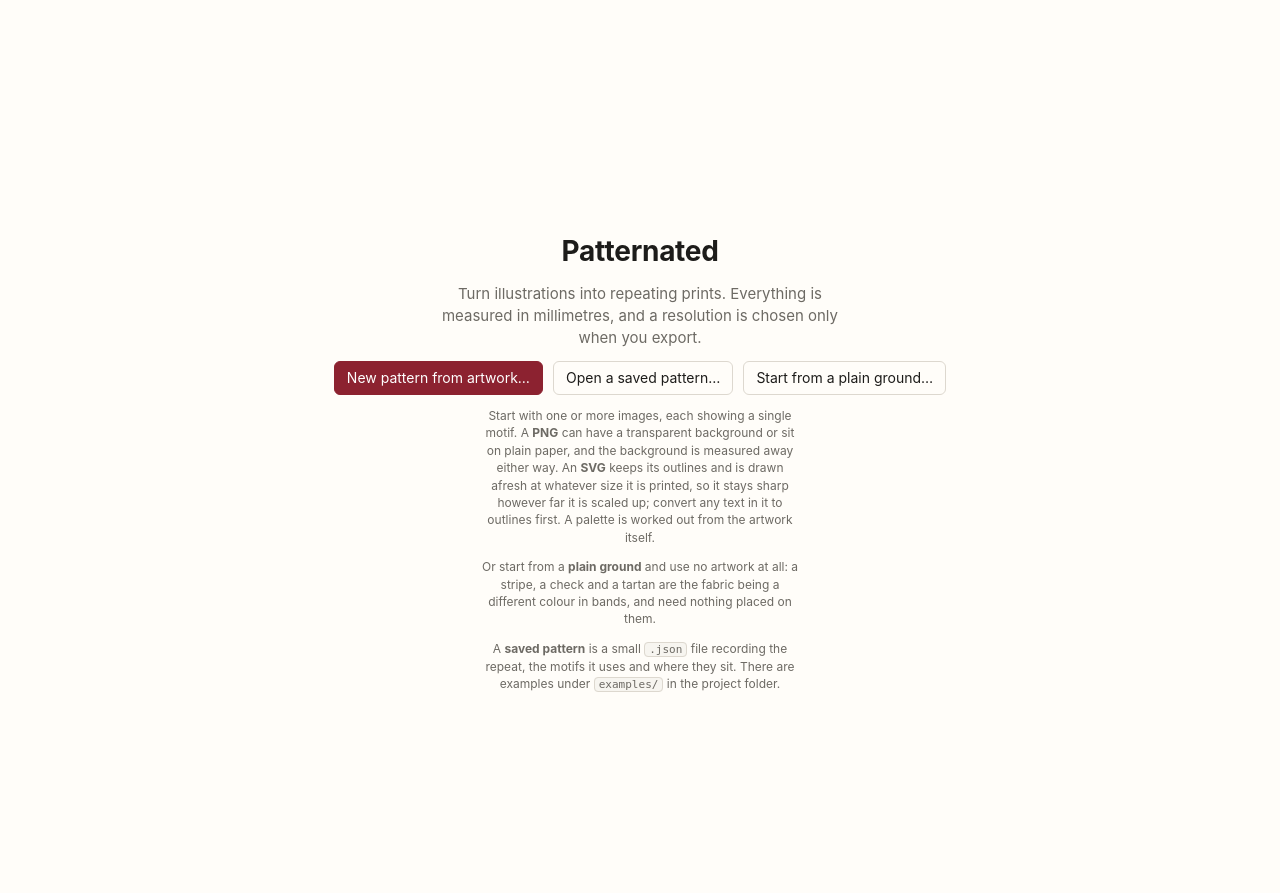
Scenario: the palette size control › names the colourways a resize discarded
Step 1. Click the button "Open a saved pattern…" → (643, 378), box [553, 361, 733, 395]
(page scrolled)
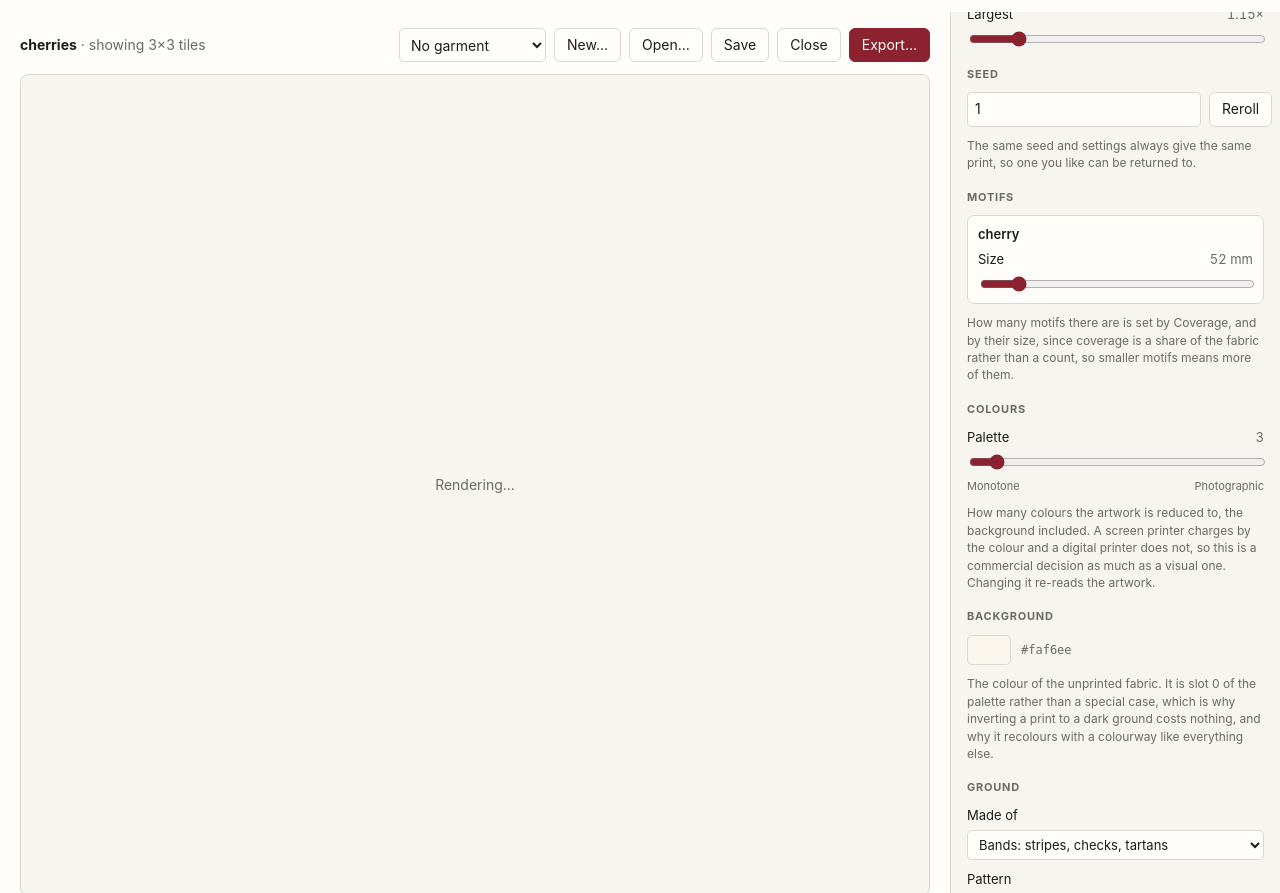
Result: the button with test id "close" is shown at [777, 28, 841, 62]
Step 2. Set the slider with test id "palette-size" to "0" → (977, 462), box [969, 454, 1266, 470]
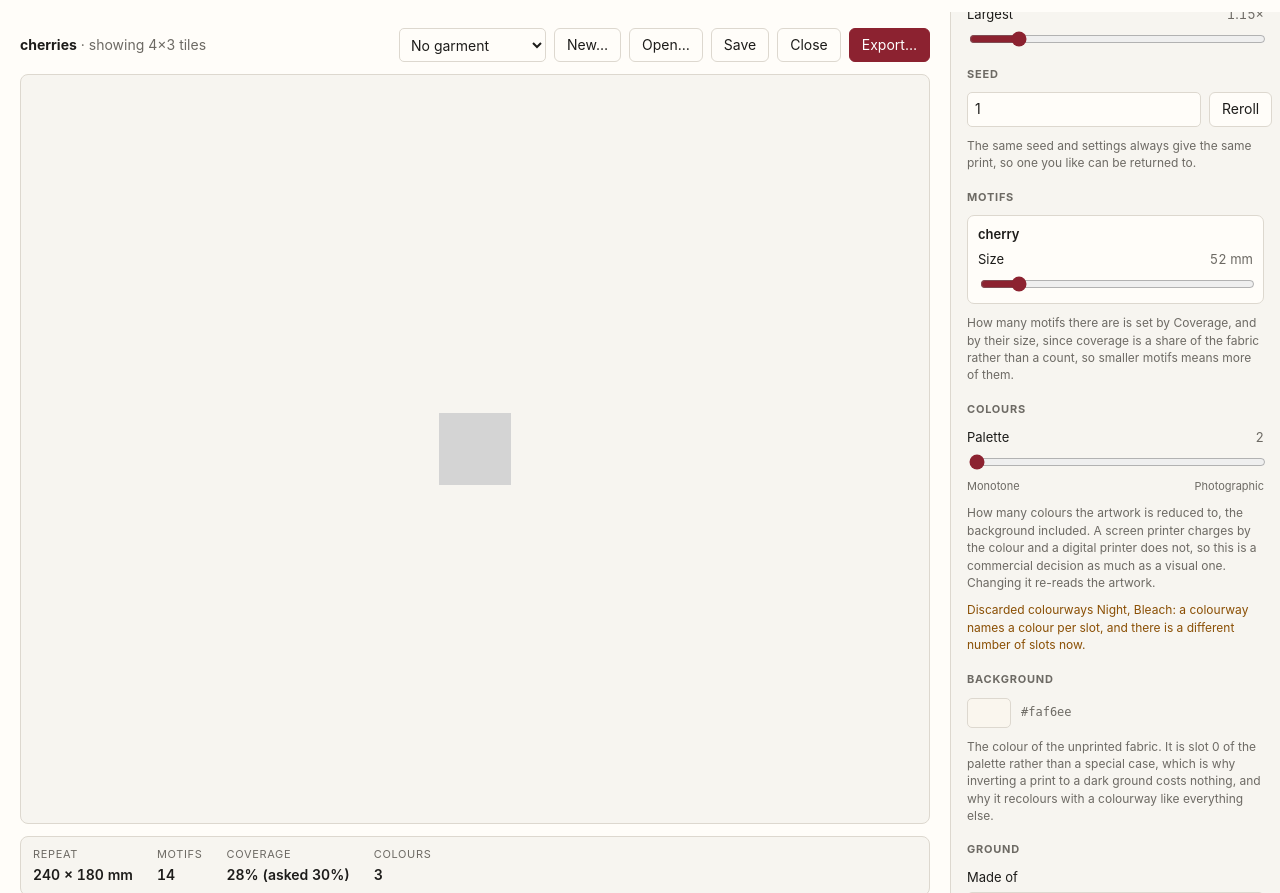
Result: the text "Discarded colourways" shows "Night, Bleach" at [1097, 602, 1172, 617]
